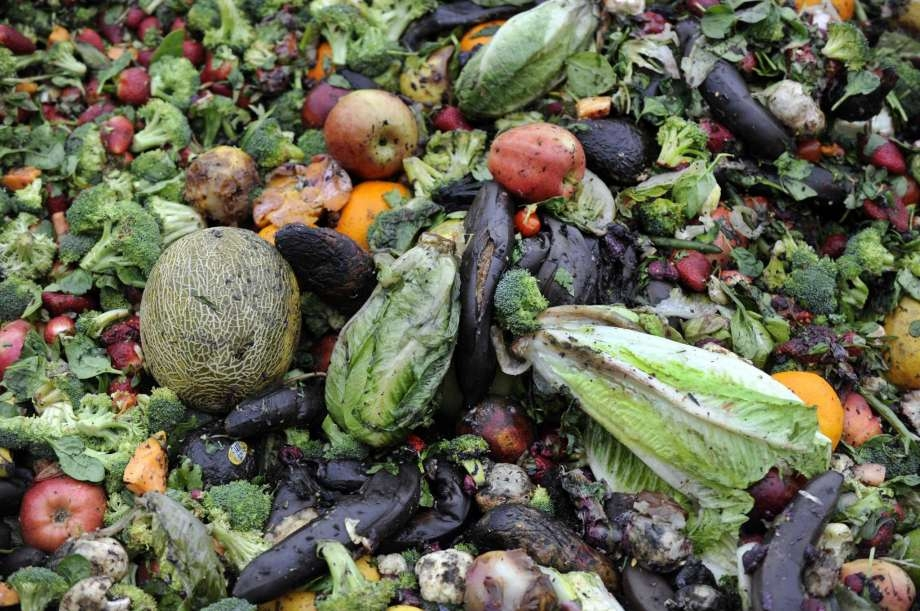kitchen_waste: (483, 264, 840, 564), (298, 202, 501, 466), (111, 220, 323, 424), (225, 449, 455, 611), (437, 1, 635, 127), (677, 25, 806, 166), (300, 85, 446, 185), (268, 211, 398, 317), (61, 183, 174, 299), (479, 117, 605, 215), (249, 142, 364, 241), (755, 356, 861, 459), (15, 465, 124, 554), (174, 142, 274, 225), (570, 109, 678, 182), (857, 285, 920, 405), (117, 96, 203, 163), (1, 205, 64, 291), (110, 428, 179, 498), (137, 47, 210, 112), (1, 314, 52, 383), (665, 237, 722, 294), (106, 61, 167, 107), (854, 130, 915, 174)
